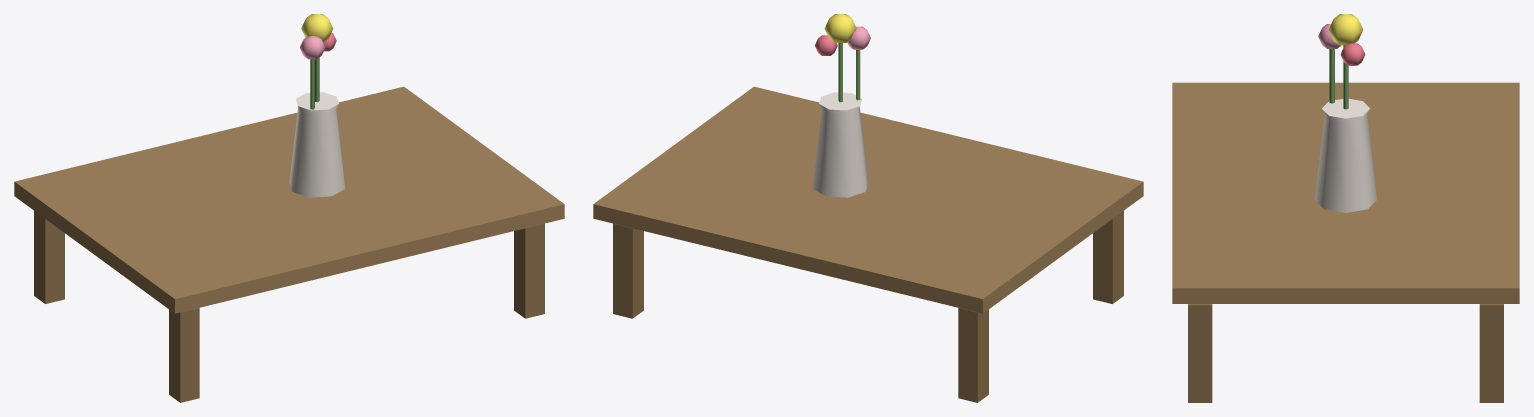
File: low-table-vase.glb
The picture shows the model from 3 angles, left to right: view 1: azimuth 30°, elevation 25°; view 2: azimuth 150°, elevation 25°; view 3: azimuth 270°, elevation 25°; orthographic projection. The views are drawn at different scales.
Visible parts, largest first — view 1: table-top, leg-0, vase, flower-1; view 2: table-top, leg-0, vase, flower-1, stem-1; view 3: table-top, vase, leg-0, flower-1, stem-1, flower-3.
Boxes of the visible parts, x1=… form: table-top: x1=14, y1=86, x2=564, y2=313; leg-0: x1=34, y1=211, x2=544, y2=402; vase: x1=289, y1=92, x2=345, y2=197; flower-1: x1=301, y1=14, x2=333, y2=42; table-top: x1=593, y1=86, x2=1143, y2=313; leg-0: x1=613, y1=211, x2=1123, y2=402; vase: x1=812, y1=92, x2=868, y2=197; flower-1: x1=824, y1=14, x2=856, y2=42; stem-1: x1=838, y1=43, x2=860, y2=102; table-top: x1=1172, y1=82, x2=1519, y2=303; vase: x1=1314, y1=99, x2=1377, y2=212; leg-0: x1=1188, y1=304, x2=1503, y2=402; flower-1: x1=1328, y1=14, x2=1363, y2=45; stem-1: x1=1329, y1=45, x2=1348, y2=109; flower-3: x1=1340, y1=43, x2=1365, y2=65.
Bounding box in the file's own units: 0.7 × 0.488 × 0.5.
